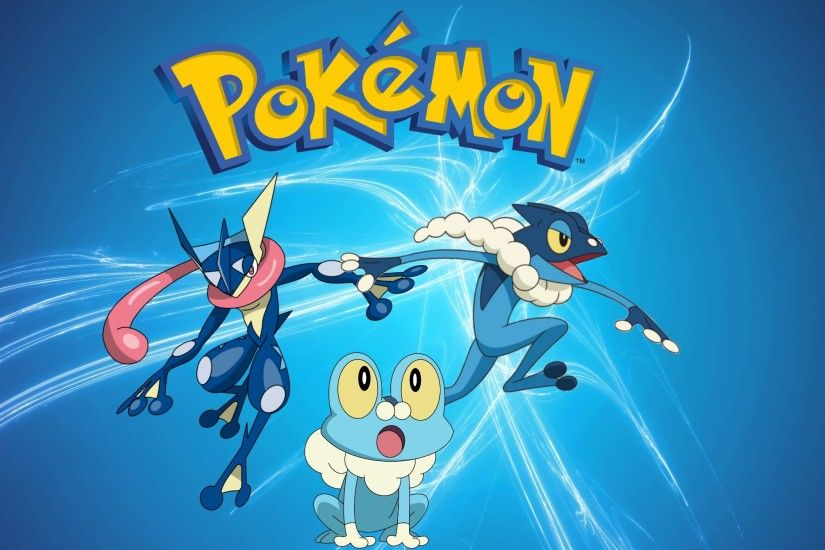greninja: (86, 170, 432, 514)
